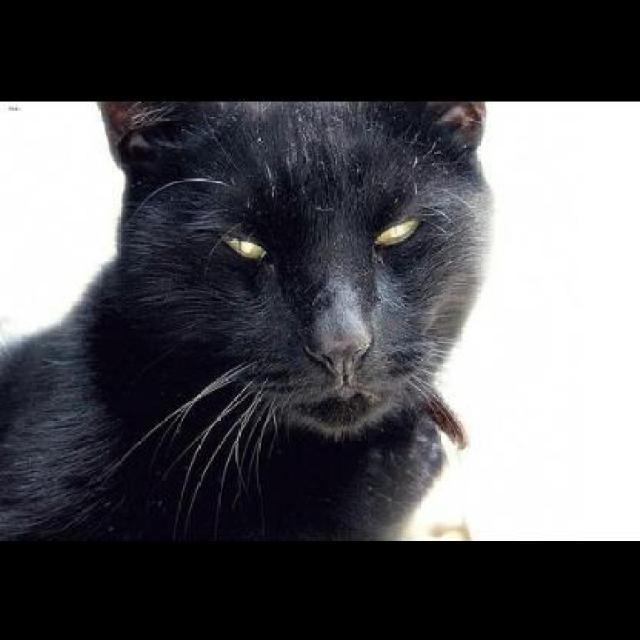unauthorized: (0, 98, 494, 540)
